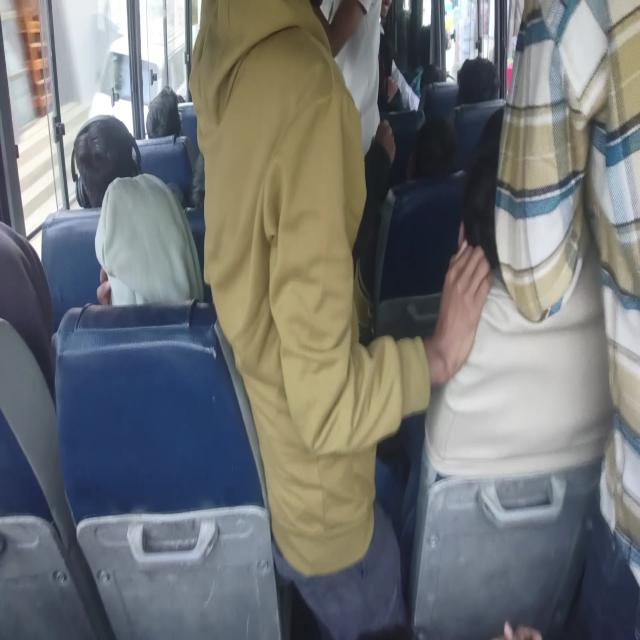person: (496, 0, 638, 578), (318, 0, 398, 308), (78, 115, 204, 307), (378, 112, 461, 332), (191, 0, 324, 123), (0, 217, 56, 400), (446, 54, 506, 169), (70, 117, 140, 204), (409, 114, 459, 182), (145, 85, 185, 141), (392, 6, 408, 69), (417, 23, 435, 73)
